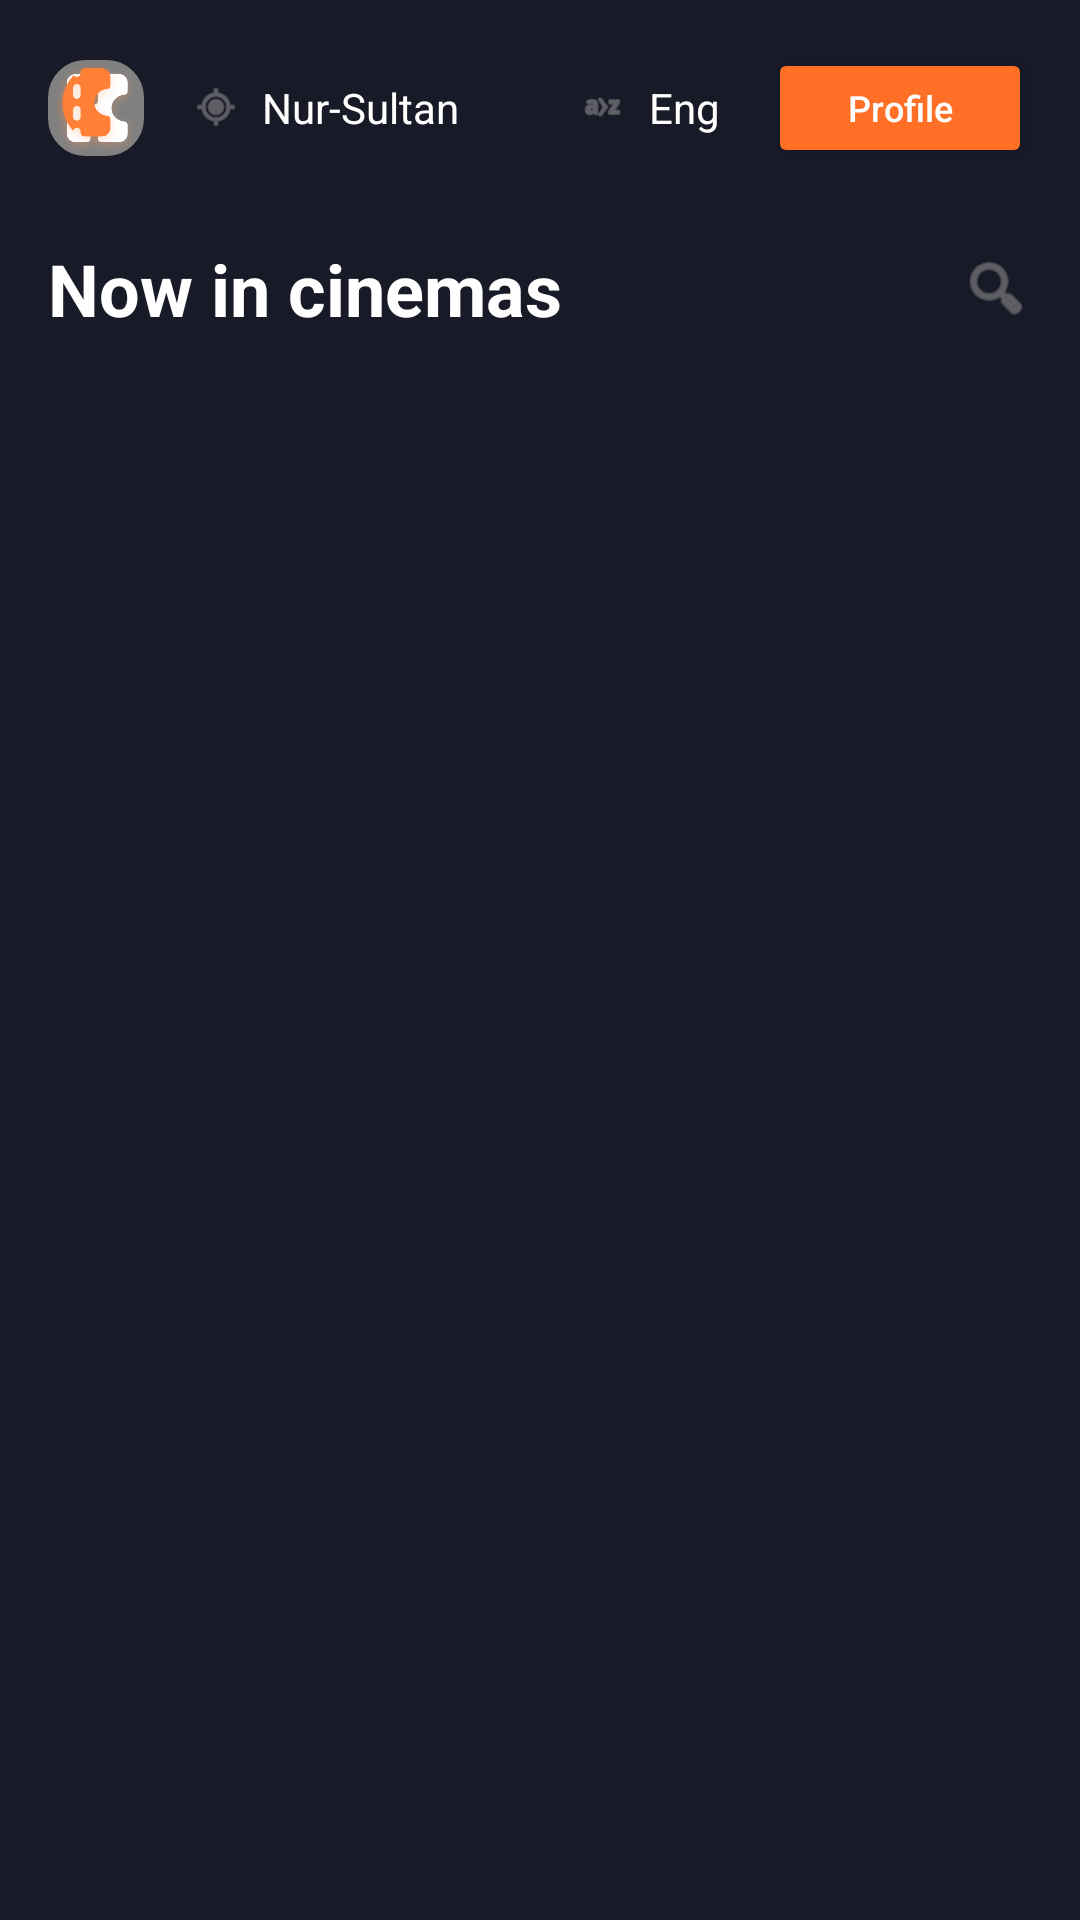

Icon click points for this 1080×1920 phone screenshot, format (x=x, y=y):
mylocation: (x=216, y=107)
search: (x=996, y=288)
sort alphabetically: (x=602, y=107)
